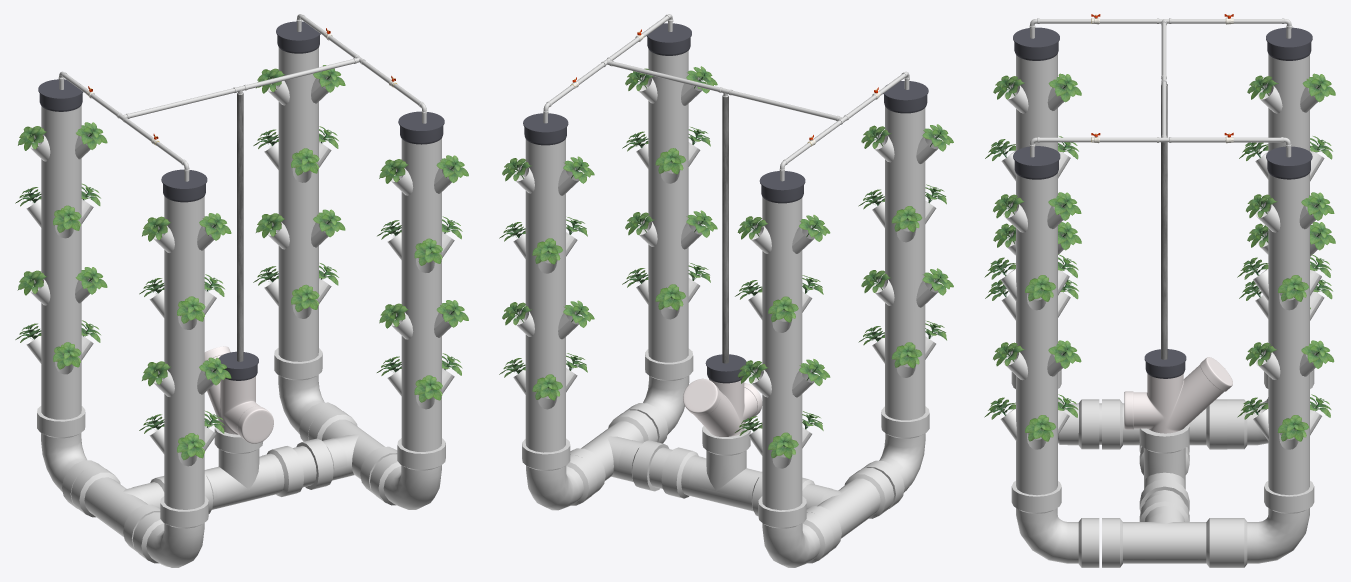
Rendered from hydroponic_tower_free_download.glb.
The picture shows the model from 3 angles, left to right: view 1: azimuth 30°, elevation 25°; view 2: azimuth 150°, elevation 25°; view 3: azimuth 270°, elevation 25°; orthographic projection. The views are drawn at different scales.
Parts seen in each view (by area): view 1: Pipe_long_m_Pipes_PVC_0.001_23, Pipe_long_m_Pipes_PVC_0.003_25, Pipe_long_m_Pipes_PVC_0.004_26, Pipe_long_m_Pipes_PVC_0.002_24, Pipe_3way_m_Pipes_PVC_0.001_0, Pipe_3way_m_Pipes_PVC_0.003_2, Pipe_bend_m_Pipes_PVC_0.001_13, Pipe_bend_m_Pipes_PVC_0_12, Pipe_3way_m_Pipes_PVC_0.002_1, Pipe_bend_m_Pipes_PVC_0.003_15, Pipe_bend_m_Pipes_PVC_0.002_14, Pipe_long.002_m_Pipes_Steel_0_77 (+19 smaller); view 2: Pipe_long_m_Pipes_PVC_0.002_24, Pipe_long_m_Pipes_PVC_0.003_25, Pipe_long_m_Pipes_PVC_0.004_26, Pipe_long_m_Pipes_PVC_0.001_23, Pipe_3way_m_Pipes_PVC_0.001_0, Pipe_3way_m_Pipes_PVC_0.003_2, Pipe_bend_m_Pipes_PVC_0.003_15, Pipe_bend_m_Pipes_PVC_0.002_14, Pipe_3way_m_Pipes_PVC_0.002_1, Pipe_bend_m_Pipes_PVC_0.001_13, Pipe_bend_m_Pipes_PVC_0_12, Cylinder.001_Wax Plastic_0_164 (+12 smaller); view 3: Pipe_long_m_Pipes_PVC_0.004_26, Pipe_long_m_Pipes_PVC_0.002_24, Pipe_3way_m_Pipes_PVC_0.003_2, Pipe_bend_m_Pipes_PVC_0.001_13, Pipe_bend_m_Pipes_PVC_0.002_14, Cylinder.001_Wax Plastic_0_164, Pipe_3way_m_Pipes_PVC_0.001_0, Pipe_long_m_Pipes_PVC_0.001_23, Pipe_long_m_Pipes_PVC_0.003_25, Pipe_3way_m_Pipes_PVC_0.002_1, Pipe_long.002_m_Pipes_Steel_0_77, Pipe_bend_m_Pipes_PVC_0.003_15 (+31 smaller).
Part boxes in pixels (x1,y1,x2,y2): Pipe_long_m_Pipes_PVC_0.001_23: (41,105,81,419); Pipe_long_m_Pipes_PVC_0.003_25: (164,196,204,509); Pipe_long_m_Pipes_PVC_0.004_26: (401,138,441,451); Pipe_long_m_Pipes_PVC_0.002_24: (278,47,318,361); Pipe_3way_m_Pipes_PVC_0.001_0: (204,423,303,513); Pipe_3way_m_Pipes_PVC_0.003_2: (296,408,397,494); Pipe_bend_m_Pipes_PVC_0.001_13: (370,438,445,509); Pipe_bend_m_Pipes_PVC_0_12: (132,496,208,567); Pipe_3way_m_Pipes_PVC_0.002_1: (71,466,164,552); Pipe_bend_m_Pipes_PVC_0.003_15: (37,406,103,508); Pipe_bend_m_Pipes_PVC_0.002_14: (274,348,341,441); Pipe_long.002_m_Pipes_Steel_0_77: (237,92,243,361); Pipe_long_m_Pipes_PVC_0.002_24: (525,139,565,452); Pipe_long_m_Pipes_PVC_0.003_25: (885,106,925,420); Pipe_long_m_Pipes_PVC_0.004_26: (648,49,688,362); Pipe_long_m_Pipes_PVC_0.001_23: (762,197,802,510); Pipe_3way_m_Pipes_PVC_0.001_0: (661,422,762,516); Pipe_3way_m_Pipes_PVC_0.003_2: (570,410,669,494); Pipe_bend_m_Pipes_PVC_0.003_15: (758,496,833,567); Pipe_bend_m_Pipes_PVC_0.002_14: (522,438,597,510); Pipe_3way_m_Pipes_PVC_0.002_1: (802,467,894,552); Pipe_bend_m_Pipes_PVC_0.001_13: (624,348,693,443); Pipe_bend_m_Pipes_PVC_0_12: (861,406,929,508); Cylinder.001_Wax Plastic_0_164: (694,379,757,436); Pipe_long_m_Pipes_PVC_0.004_26: (1016,173,1057,495); Pipe_long_m_Pipes_PVC_0.002_24: (1268,172,1309,495); Pipe_3way_m_Pipes_PVC_0.003_2: (1102,494,1227,567); Pipe_bend_m_Pipes_PVC_0.001_13: (1011,481,1099,567); Pipe_bend_m_Pipes_PVC_0.002_14: (1227,481,1314,567); Cylinder.001_Wax Plastic_0_164: (1133,364,1223,433); Pipe_3way_m_Pipes_PVC_0.001_0: (1139,424,1189,512); Pipe_long_m_Pipes_PVC_0.001_23: (1268,54,1309,151); Pipe_long_m_Pipes_PVC_0.003_25: (1016,53,1057,151); Pipe_3way_m_Pipes_PVC_0.002_1: (1102,399,1227,452); Pipe_long.002_m_Pipes_Steel_0_77: (1161,84,1167,359); Pipe_bend_m_Pipes_PVC_0.003_15: (1227,369,1314,449).
Bounding box in the file's own units: 2.14 × 2.68 × 1.98.
Materials: 10 (2 with a texture image).
